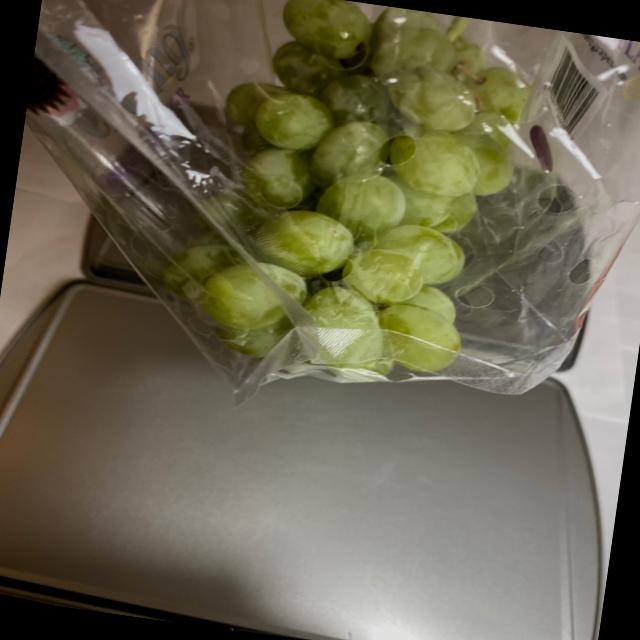grapes: (156, 0, 539, 370)
